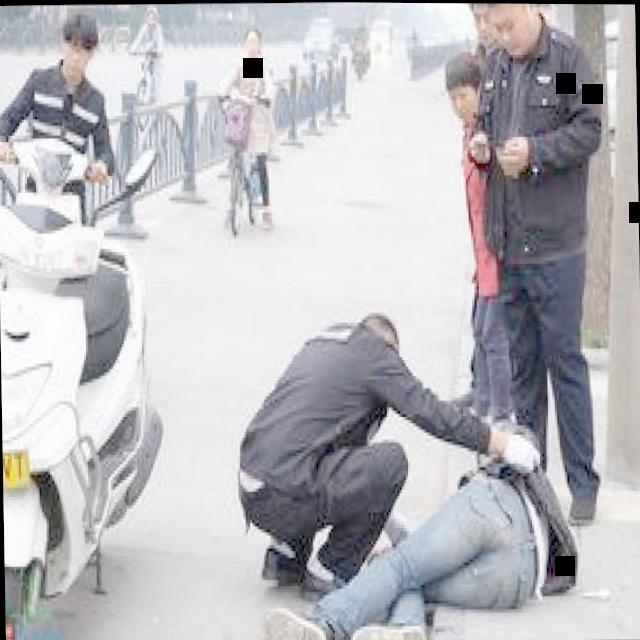Fall-Detected: (249, 399, 587, 640)
